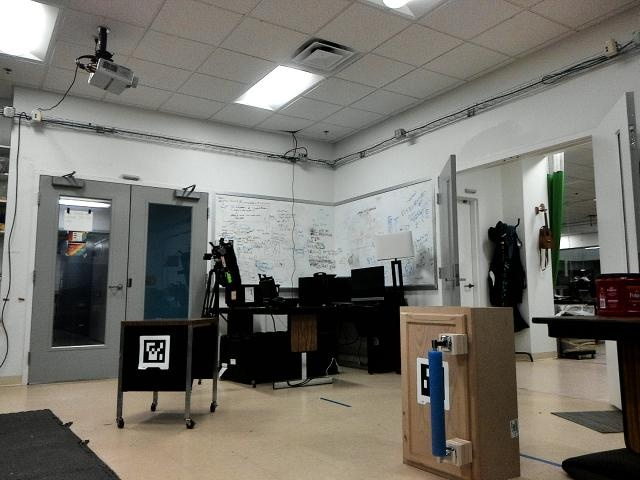noodle_handle: (424, 344, 449, 463)
